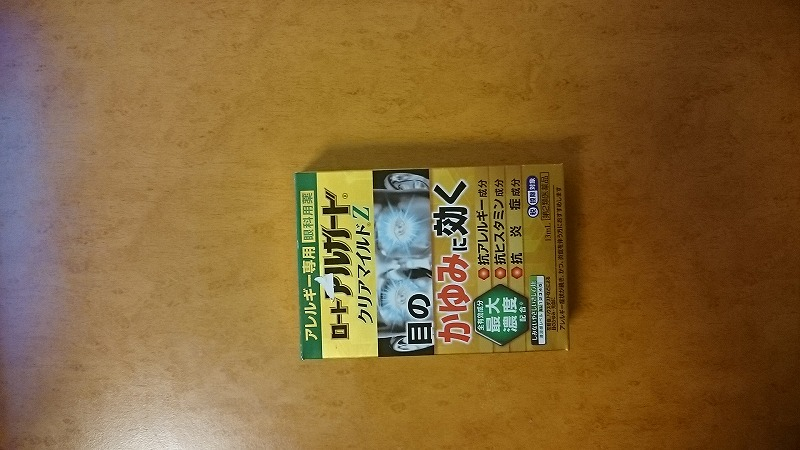C: (286, 165, 578, 363)
